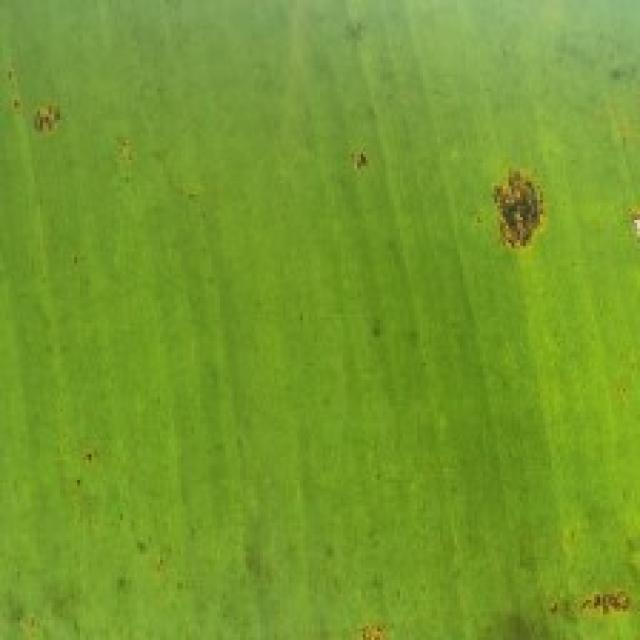Downey_mildrew: (444, 147, 576, 265), (0, 60, 129, 174), (549, 583, 637, 640), (342, 134, 389, 195)
